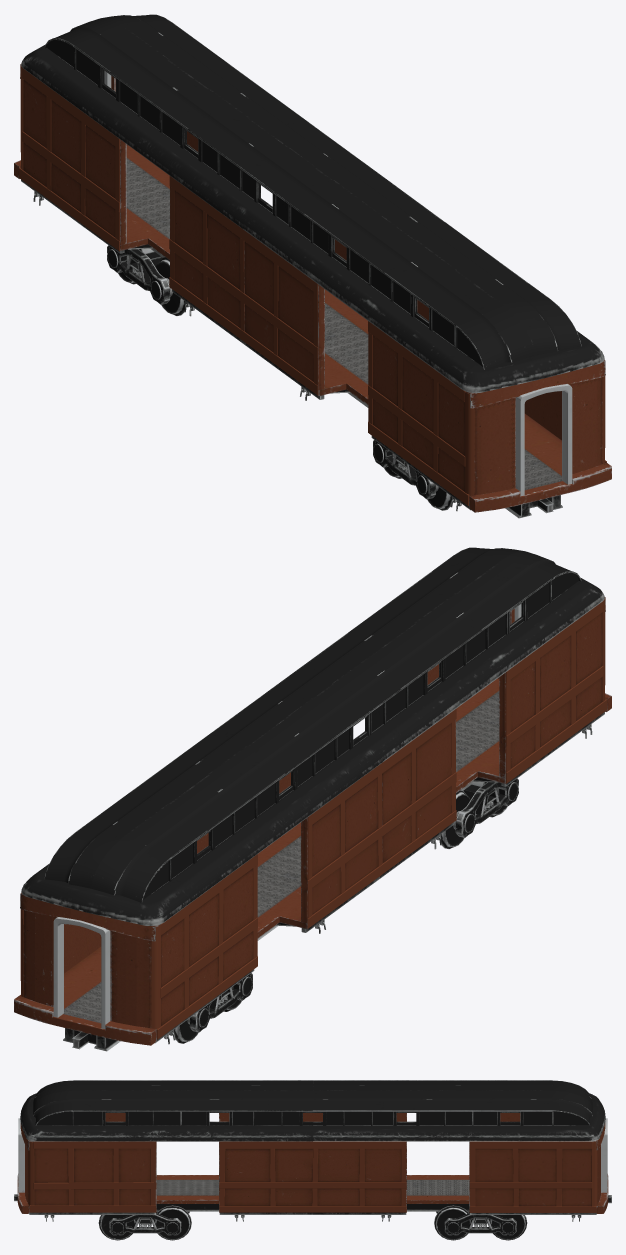
Rendered from trainWagon.obj.
3 renders of one model, top to bottom at view 1: azimuth 30°, elevation 25°; view 2: azimuth 150°, elevation 25°; view 3: azimuth 270°, elevation 25°, orthographic. The views are drawn at different scales.
Visible parts, largest first — view 1: Top, Middle, Details_wagon_R, wheels; view 2: Top, Middle, Details_wagon_R, wheels; view 3: Top, Middle, Details_wagon_L, wheels.
Boxes of the visible parts, <box> form: Top: <box>21,14,604,392</box>; Middle: <box>14,63,611,512</box>; Details_wagon_R: <box>19,65,474,505</box>; wheels: <box>21,179,562,518</box>; Top: <box>21,547,604,925</box>; Middle: <box>14,596,611,1045</box>; Details_wagon_R: <box>151,598,606,1039</box>; wheels: <box>63,712,604,1051</box>; Top: <box>20,1080,605,1141</box>; Middle: <box>17,1113,608,1213</box>; Details_wagon_L: <box>28,1141,597,1212</box>; wheels: <box>14,1194,611,1240</box>.
Bounding box in the file's own units: 24.3 × 36.86 × 142.
4 materials, 4 textured.
